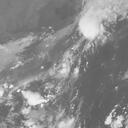cyclone: (51, 53, 80, 79)
